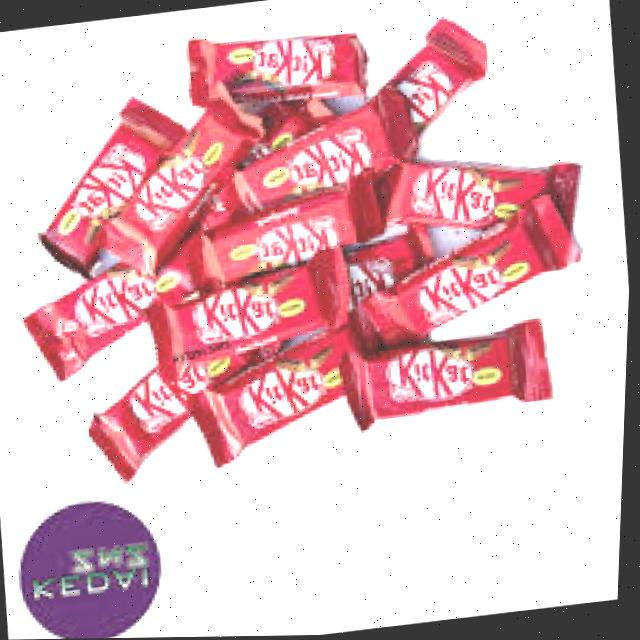kitkat: (88, 74, 284, 291), (354, 194, 603, 359), (30, 82, 198, 283), (329, 7, 506, 189), (192, 322, 397, 469), (26, 241, 234, 380), (387, 137, 597, 265), (216, 90, 422, 219), (88, 332, 264, 481), (203, 173, 401, 302), (156, 266, 363, 381), (347, 323, 559, 430), (188, 18, 364, 116)
